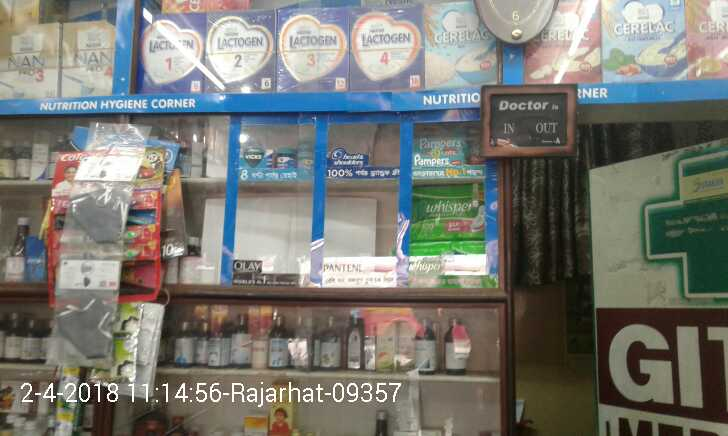vicks: (268, 139, 321, 168)
